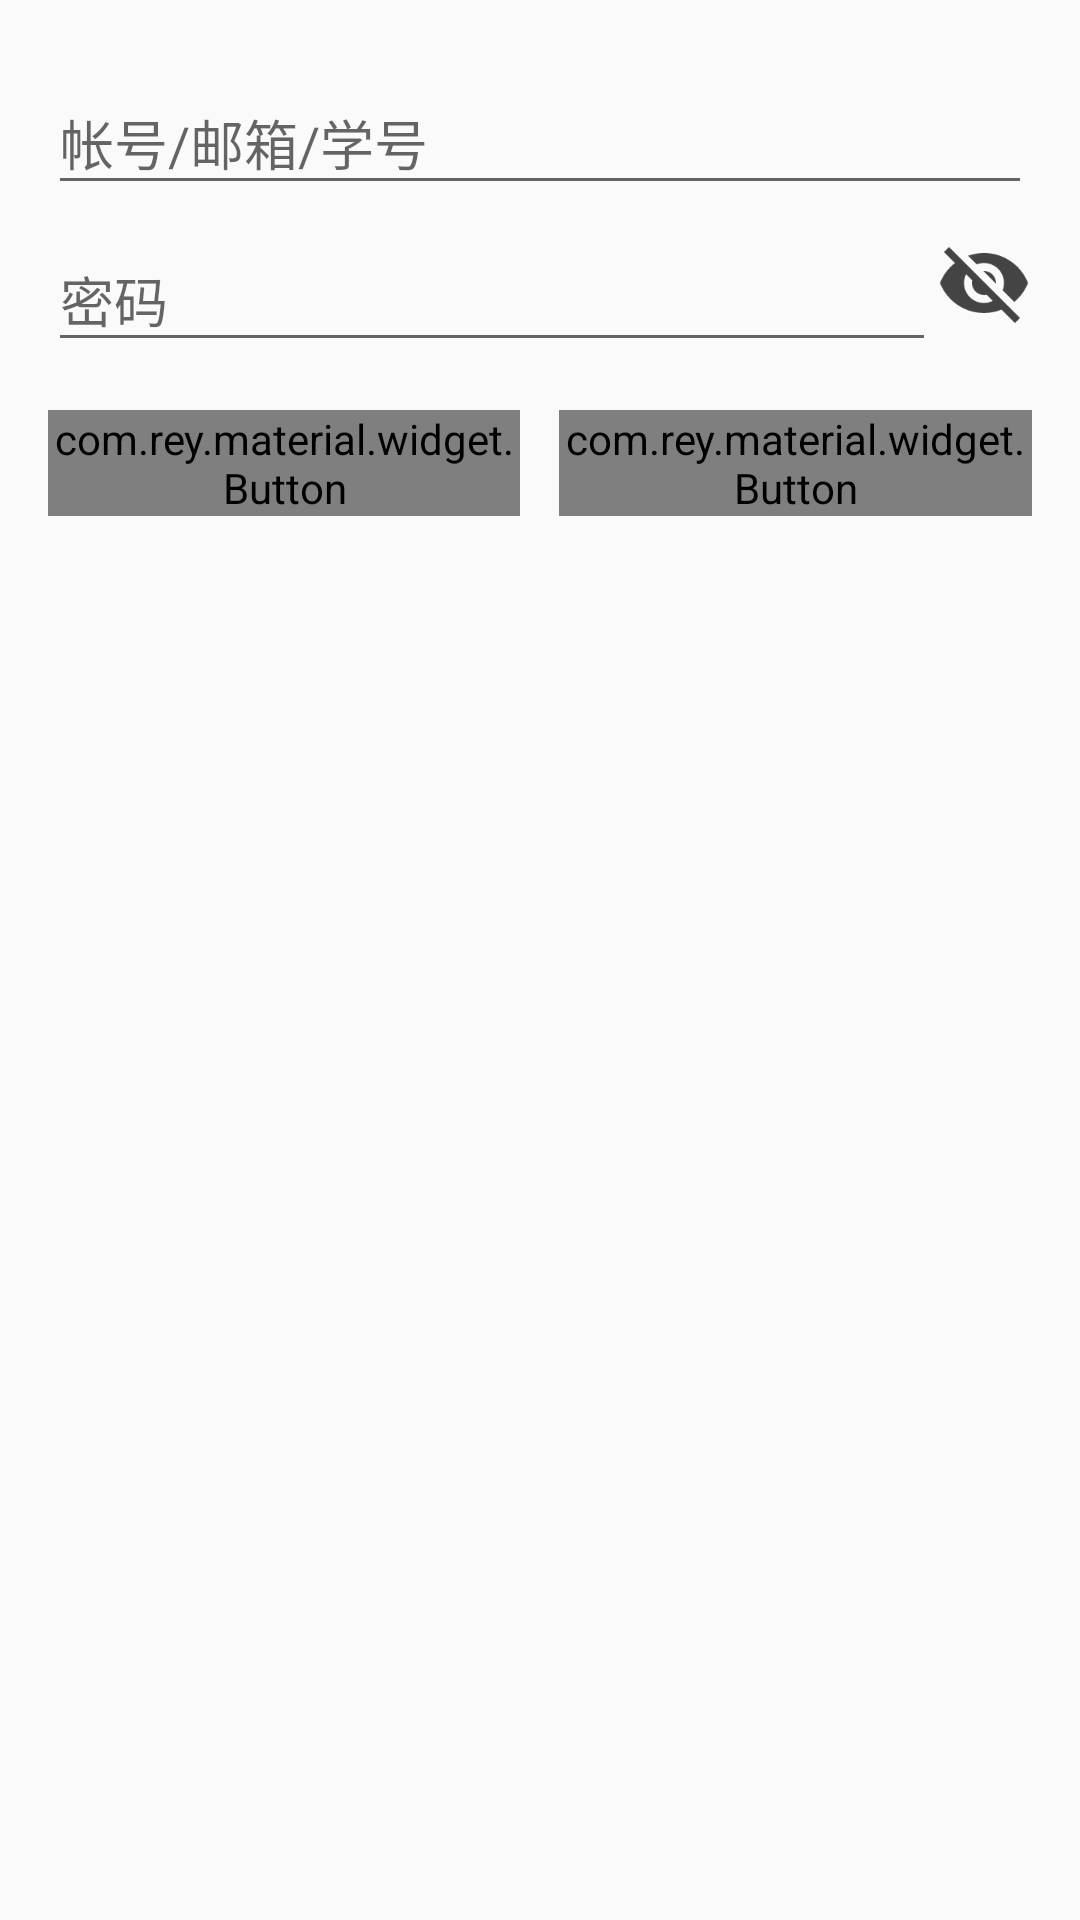

Screen size 1080w x 1920h. Icon name, then its center in pixels as (x,y):
eye off: (984,285)
